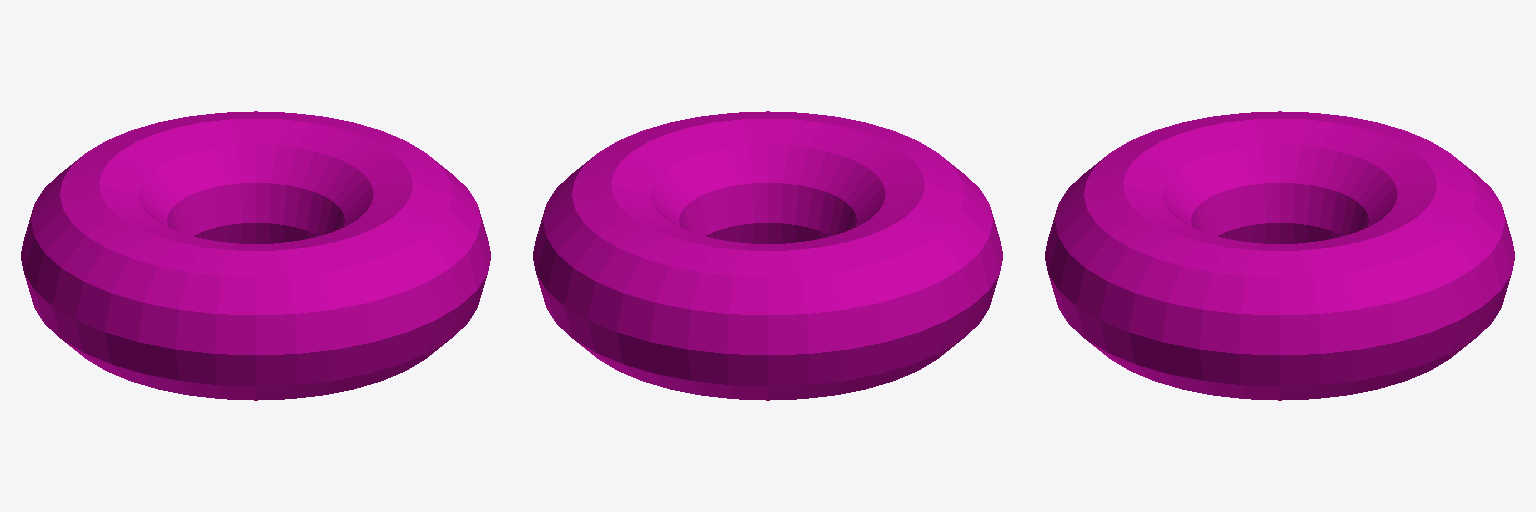
The model's file is torusSmooth.obj.
3 renders of one model, left to right at view 1: azimuth 30°, elevation 25°; view 2: azimuth 150°, elevation 25°; view 3: azimuth 270°, elevation 25°, orthographic.
Visible parts, largest first — view 1: Torus; view 2: Torus; view 3: Torus.
Boxes of the visible parts, <box> form: Torus: <box>21,111,490,400</box>; Torus: <box>533,111,1002,400</box>; Torus: <box>1045,111,1514,400</box>.
Size of the model in its own units: 3 by 1 by 3.